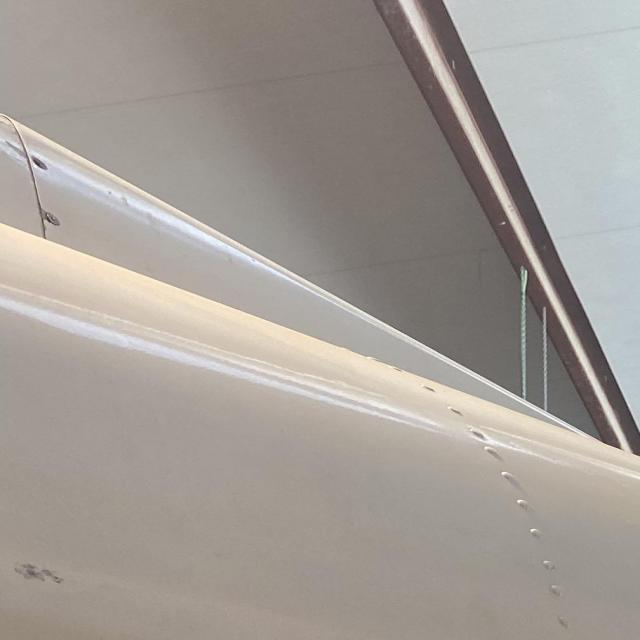Missing-head: (31, 155, 49, 170)
Paint-off: (10, 562, 60, 583)
